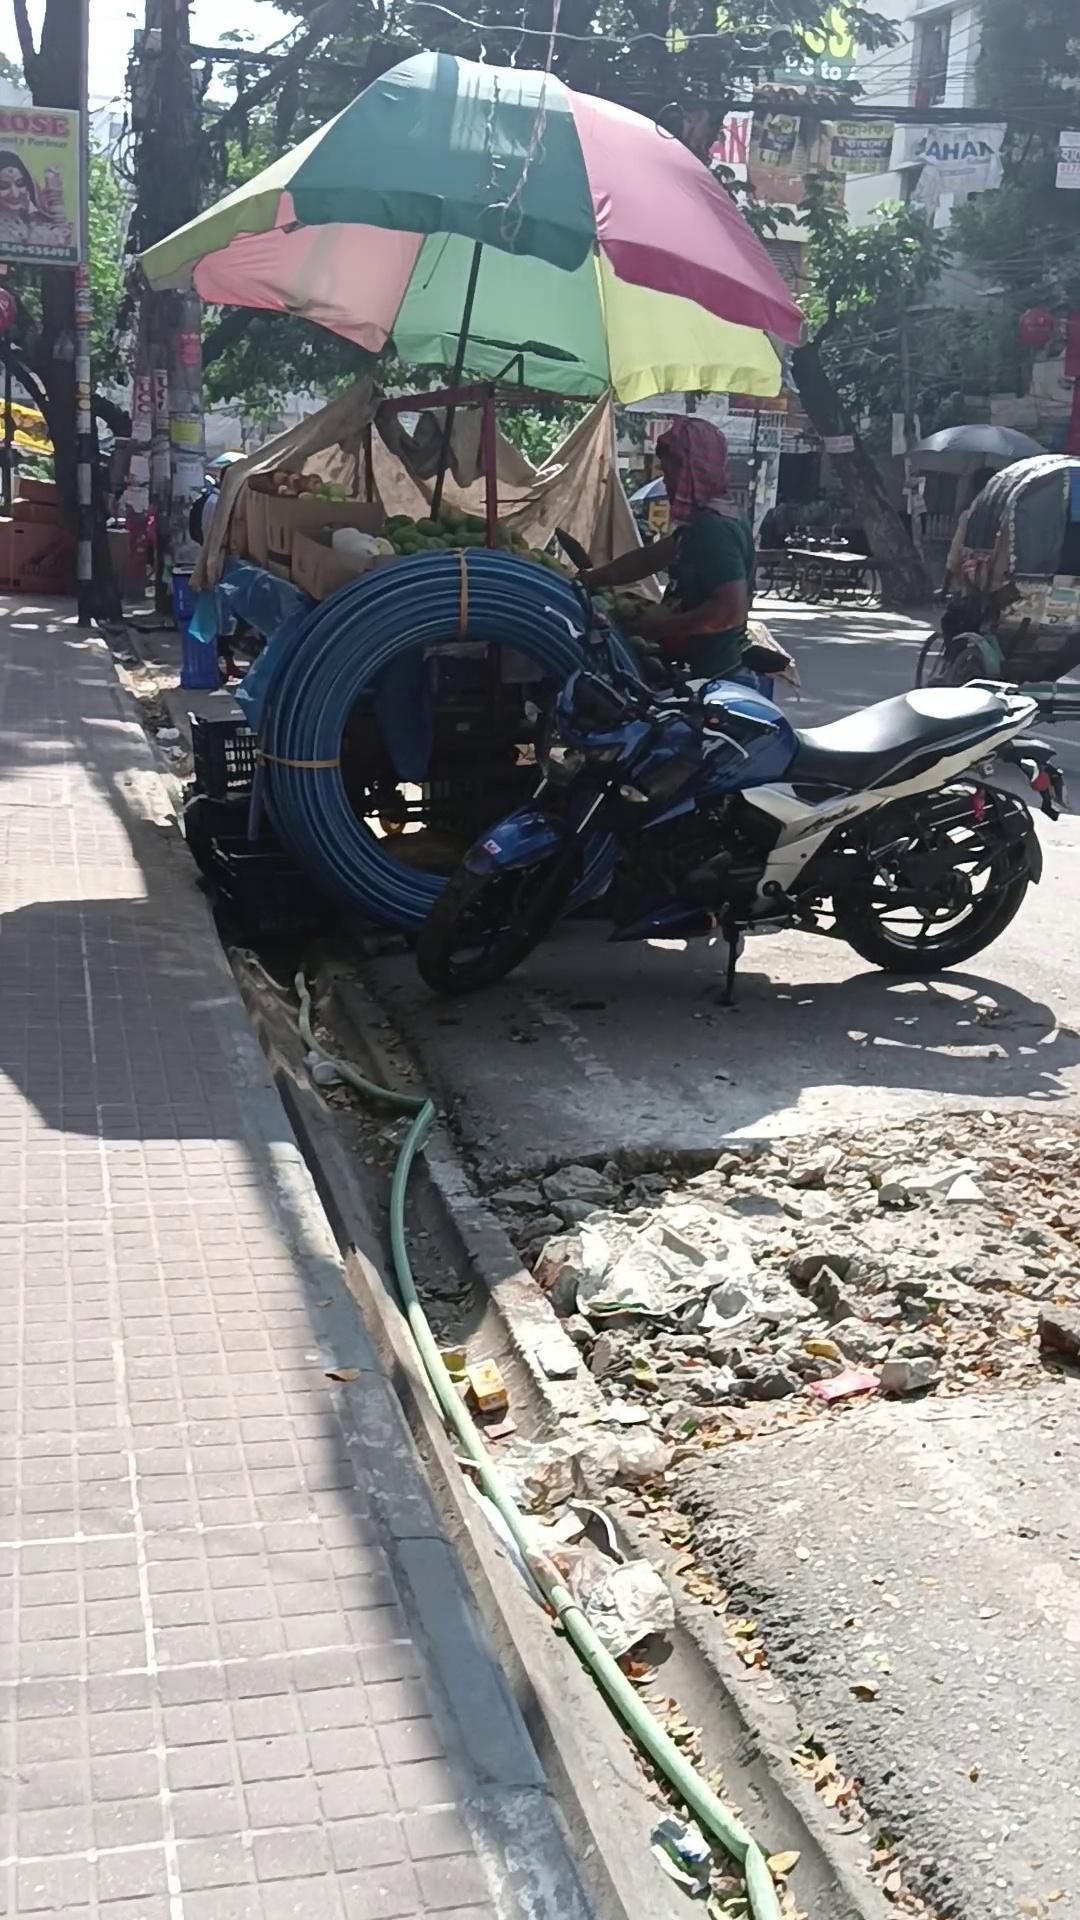Bench: (291, 942, 1080, 1920)
Cat: (167, 562, 222, 688)
Construction-barrier: (413, 527, 1065, 1005)
Fence: (913, 451, 1077, 716)
Garbage: (0, 587, 595, 1917)
